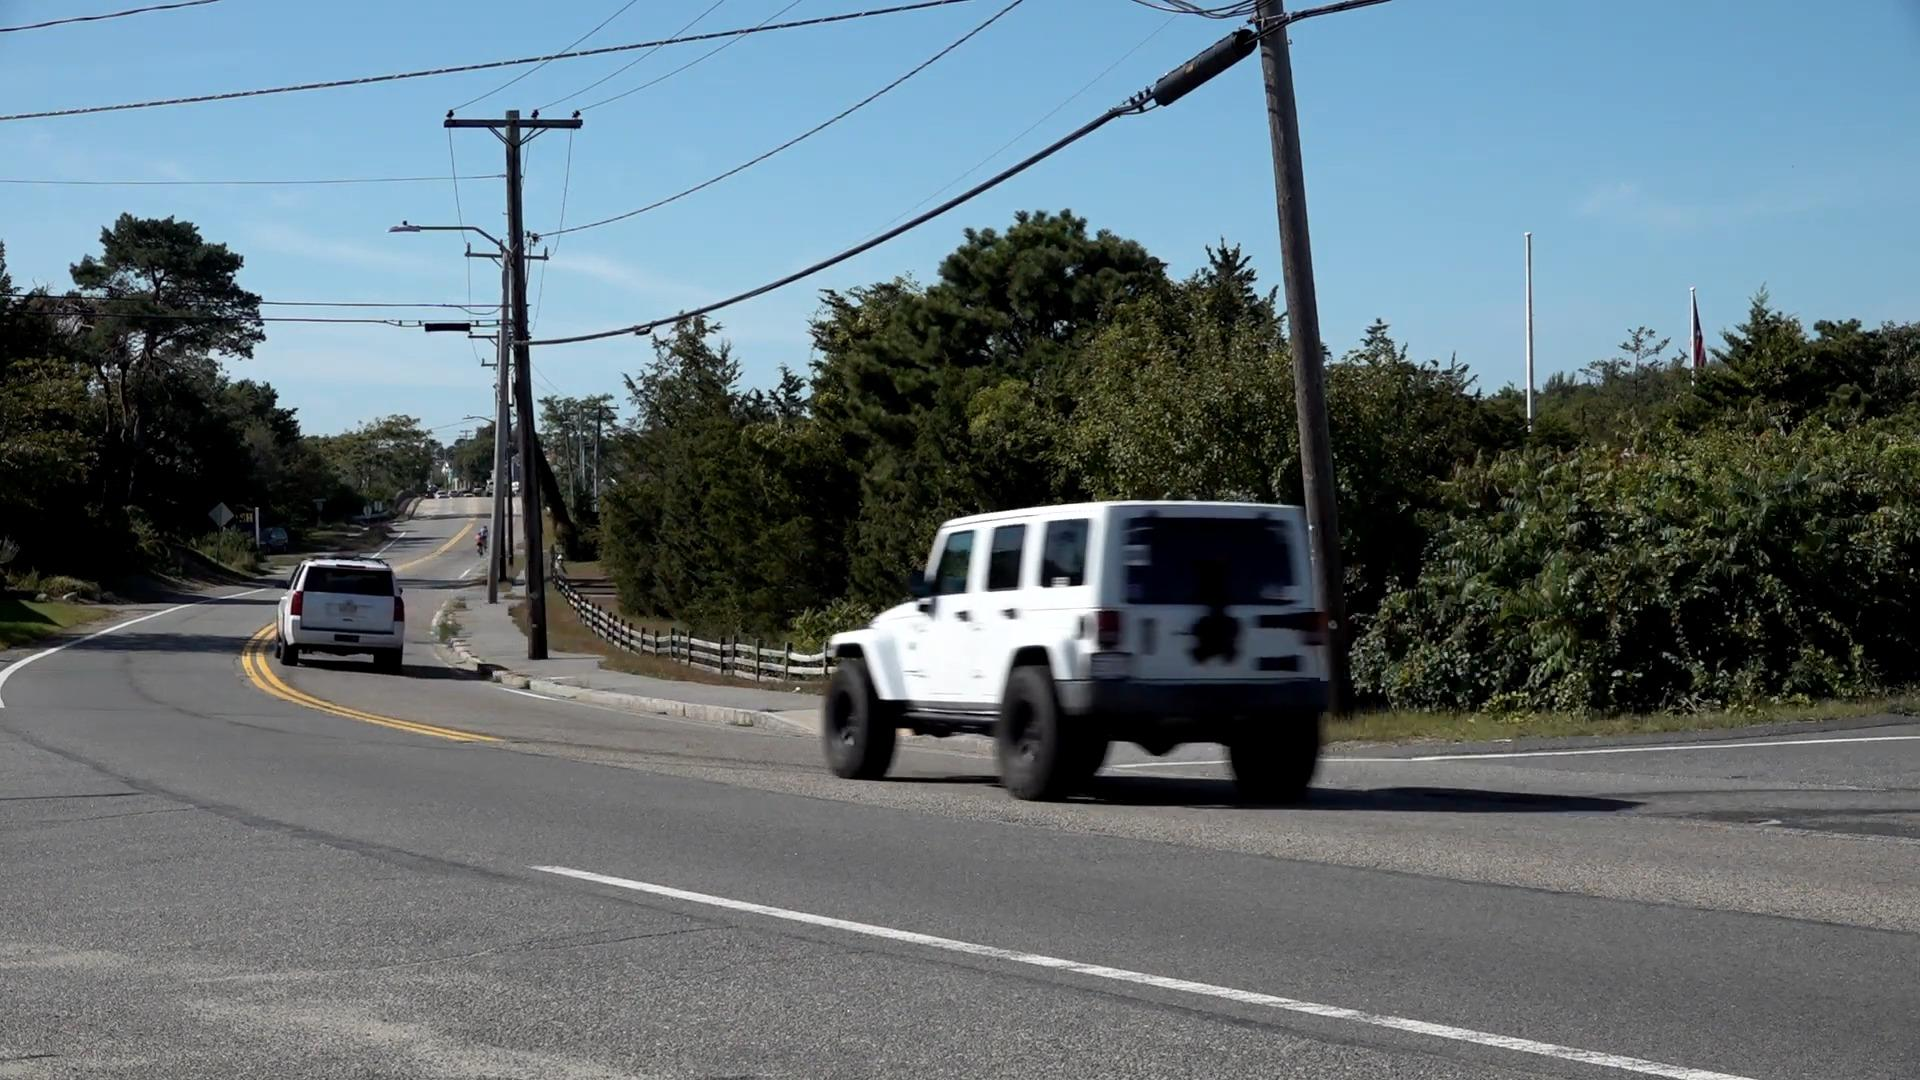suv: (824, 504, 1327, 797), (280, 554, 410, 671)
